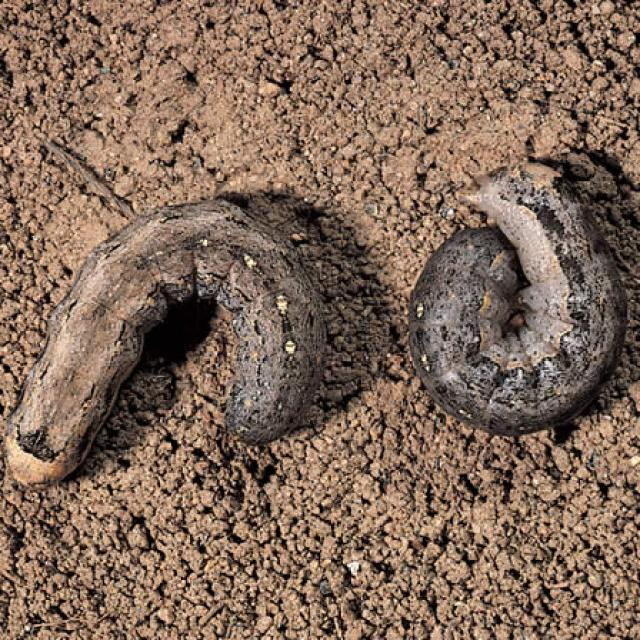Cutworm: (7, 193, 338, 500), (403, 166, 627, 442)
